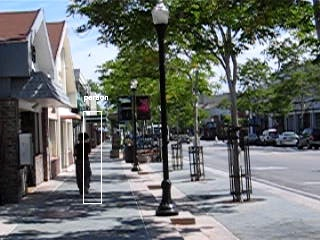person: (72, 132, 93, 197), (71, 132, 92, 197), (73, 132, 94, 197), (72, 131, 93, 196), (72, 133, 93, 198)
target_negative: (109, 174, 253, 232), (49, 184, 314, 202), (108, 207, 267, 236), (300, 142, 316, 201), (160, 203, 303, 207)
